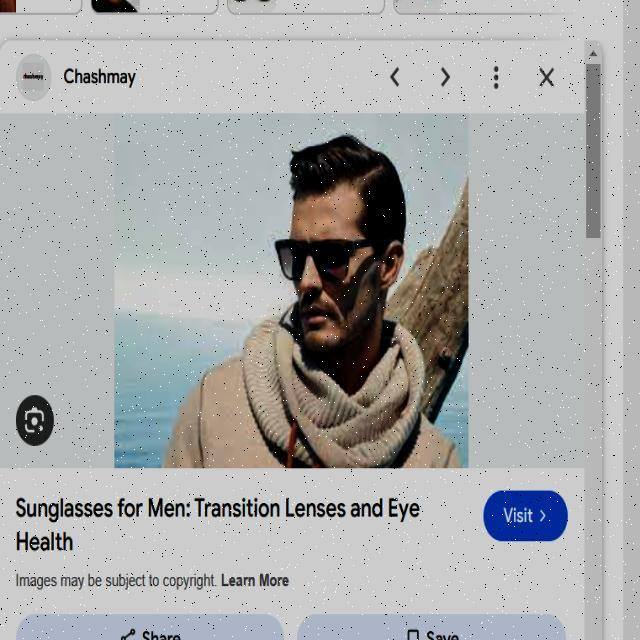face_no_mask: (274, 187, 402, 344)
